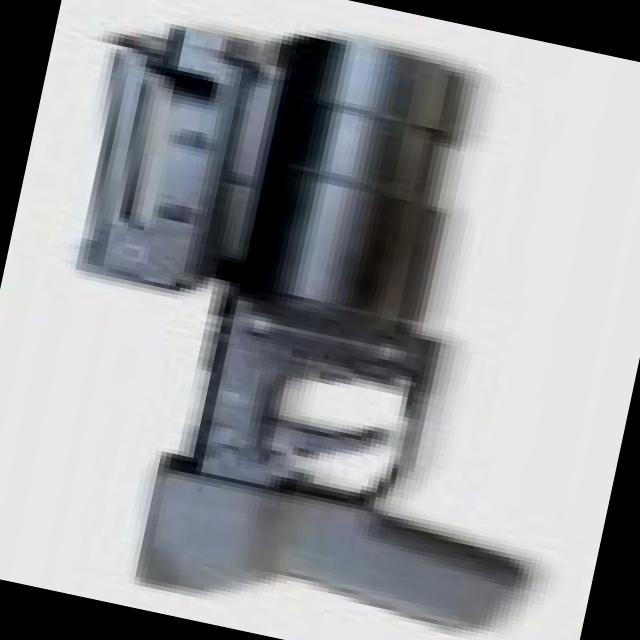handgun: (4, 3, 627, 639)
